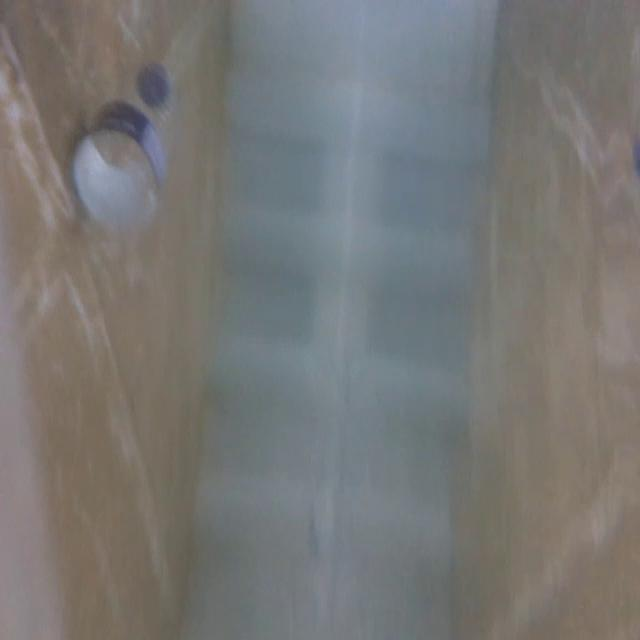plastic bottle: (74, 65, 182, 275)
